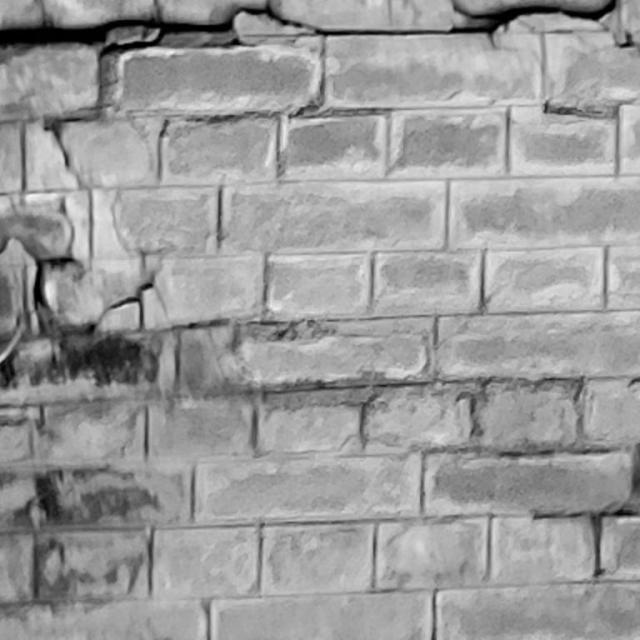crack: (1, 1, 640, 57), (33, 258, 154, 334)
